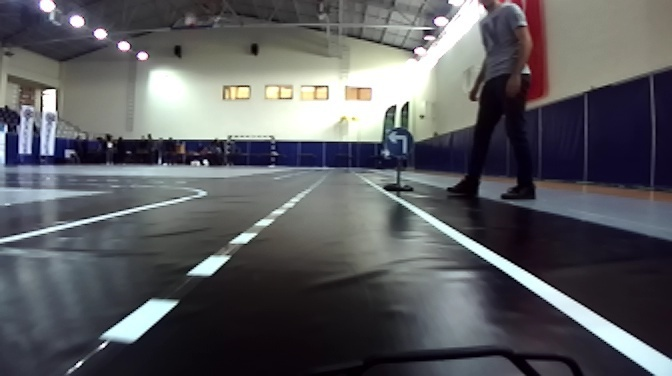sola_donus: (385, 126, 416, 153)
